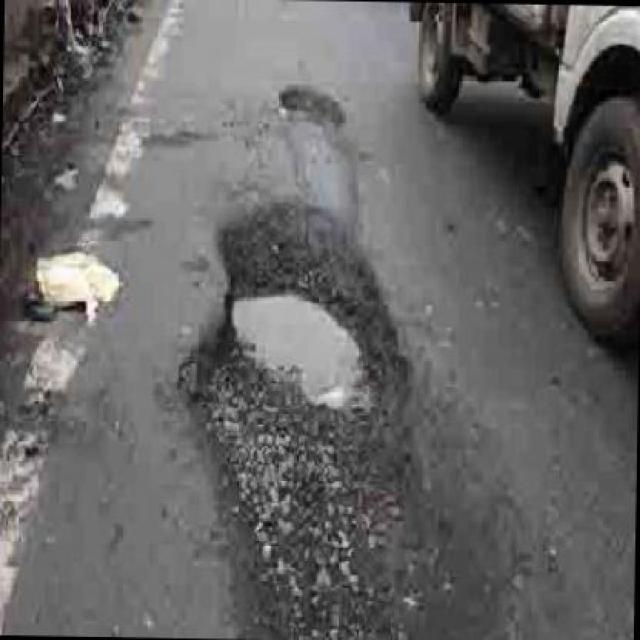pothole: (178, 194, 417, 629), (278, 79, 348, 126)
